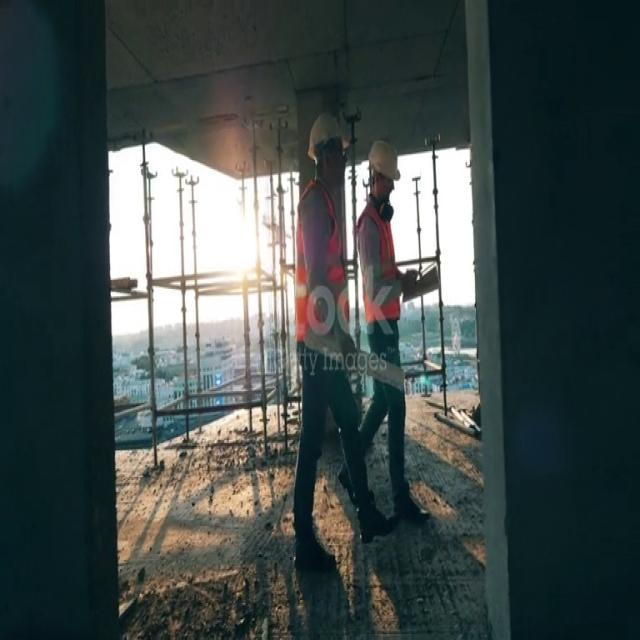capacete: (303, 109, 354, 165), (364, 138, 408, 192)
